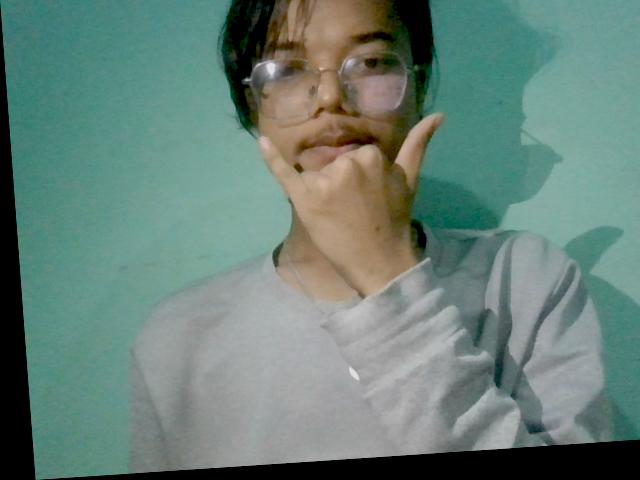Wrong: (229, 106, 474, 299)
